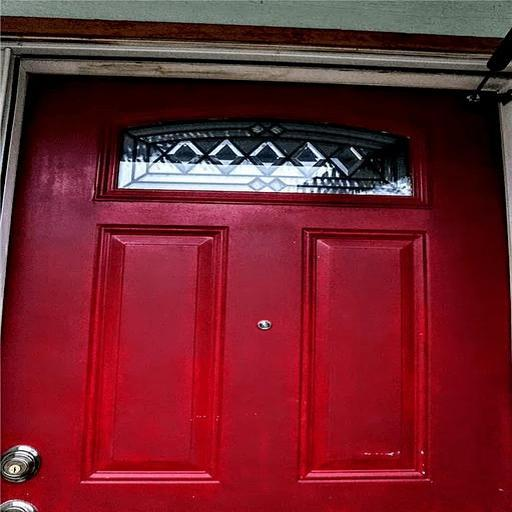Crewmate: (34, 77, 481, 498)
